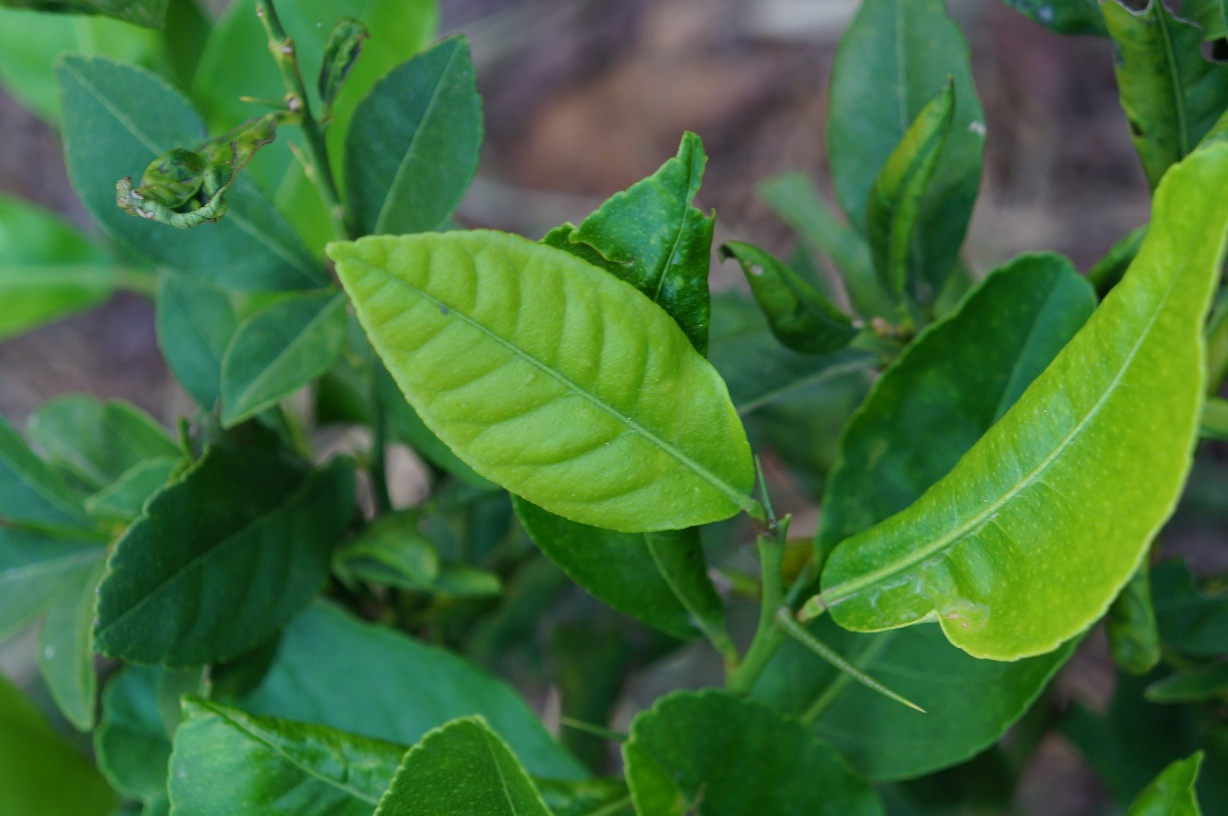curly: (116, 99, 294, 237)
